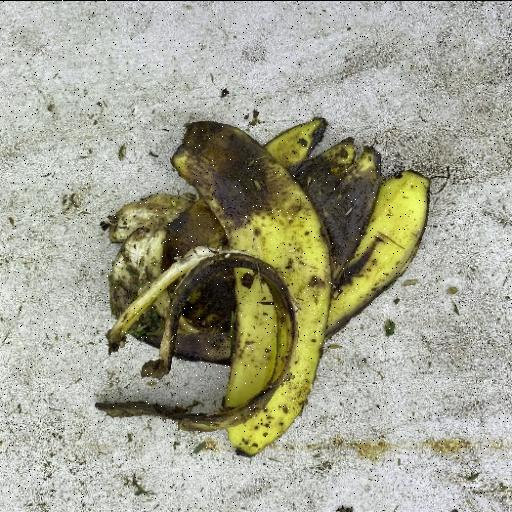Waste: (94, 114, 431, 458)
